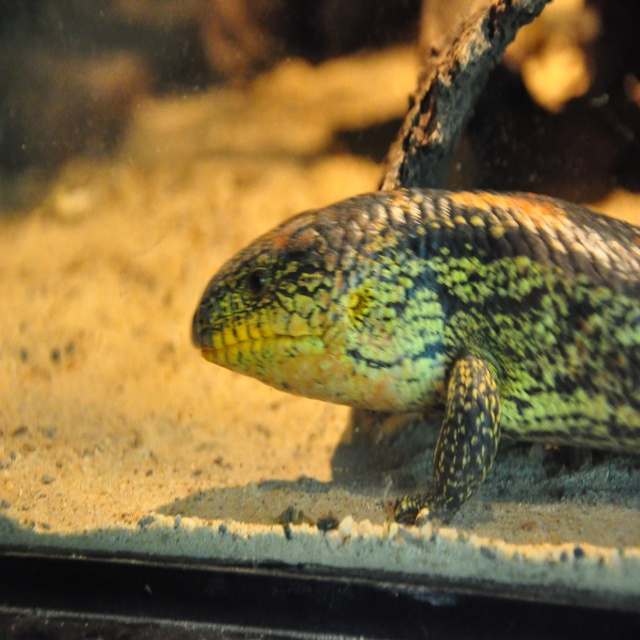Lizard: (222, 180, 605, 532)
